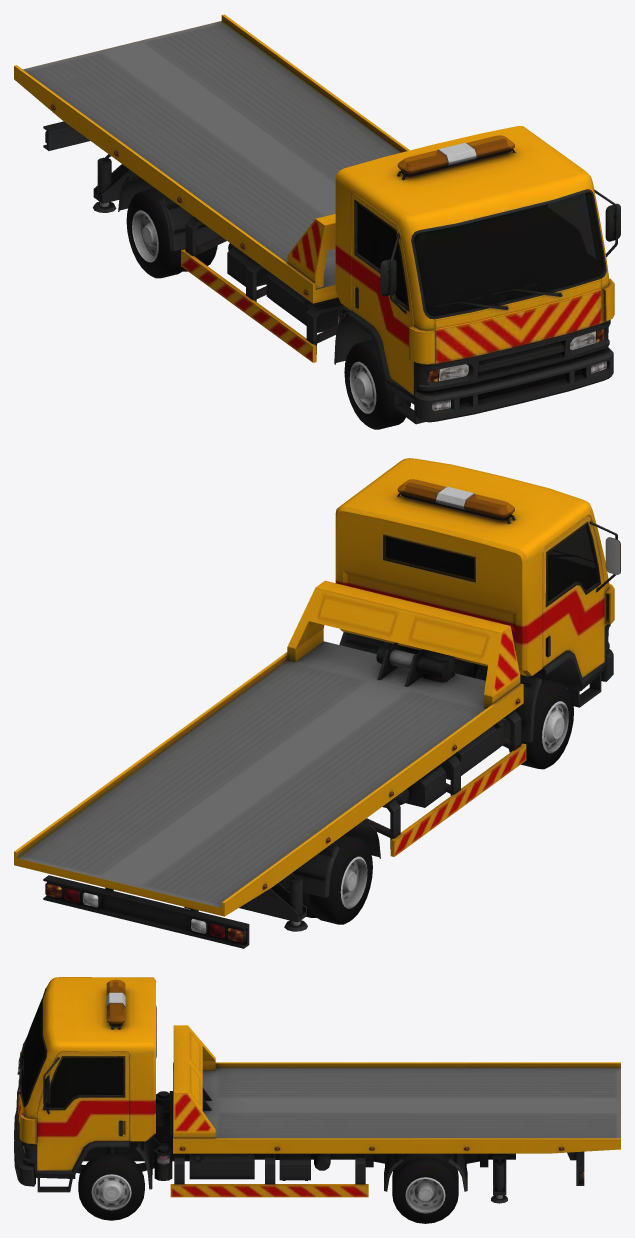
File: veh-towtruck.glb
The picture shows the model from 3 angles, top to bottom: view 1: azimuth 30°, elevation 25°; view 2: azimuth 150°, elevation 25°; view 3: azimuth 270°, elevation 25°; orthographic projection. The views are drawn at different scales.
Parts seen in each view (by area): view 1: towtruck_towtruck_0, towtruck_towtruck_glass_0 (×2), towtruck_optics_tex_0; view 2: towtruck_towtruck_0, towtruck_towtruck_glass_0 (×2), towtruck_optics_tex_0; view 3: towtruck_towtruck_0, towtruck_towtruck_glass_0 (×2).
Part boxes in pixels (bbox=[...]): towtruck_towtruck_0: bbox=[14, 14, 620, 429]; towtruck_towtruck_glass_0 (×2): bbox=[357, 135, 603, 316]; towtruck_optics_tex_0: bbox=[50, 105, 606, 410]; towtruck_towtruck_0: bbox=[14, 458, 620, 948]; towtruck_towtruck_glass_0 (×2): bbox=[386, 479, 597, 601]; towtruck_optics_tex_0: bbox=[46, 486, 520, 942]; towtruck_towtruck_0: bbox=[14, 977, 620, 1223]; towtruck_towtruck_glass_0 (×2): bbox=[21, 979, 125, 1107].
Bounding box in the file's own units: 2.38 × 2.39 × 6.94.
Materials: 4 (4 with a texture image).
